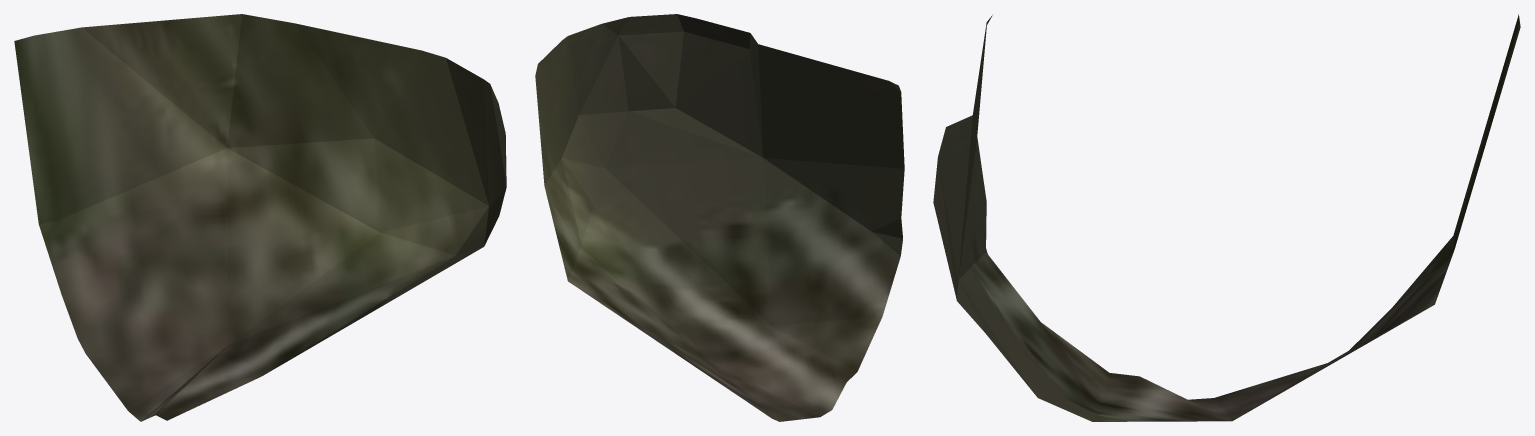
3 views of the same model, side by side, from view 1: azimuth 30°, elevation 25°; view 2: azimuth 150°, elevation 25°; view 3: azimuth 270°, elevation 25° (orthographic). The views are drawn at different scales.
Size of the model in its own units: 0.6952 by 0.6067 by 0.8359.
1 material, 1 textured.
